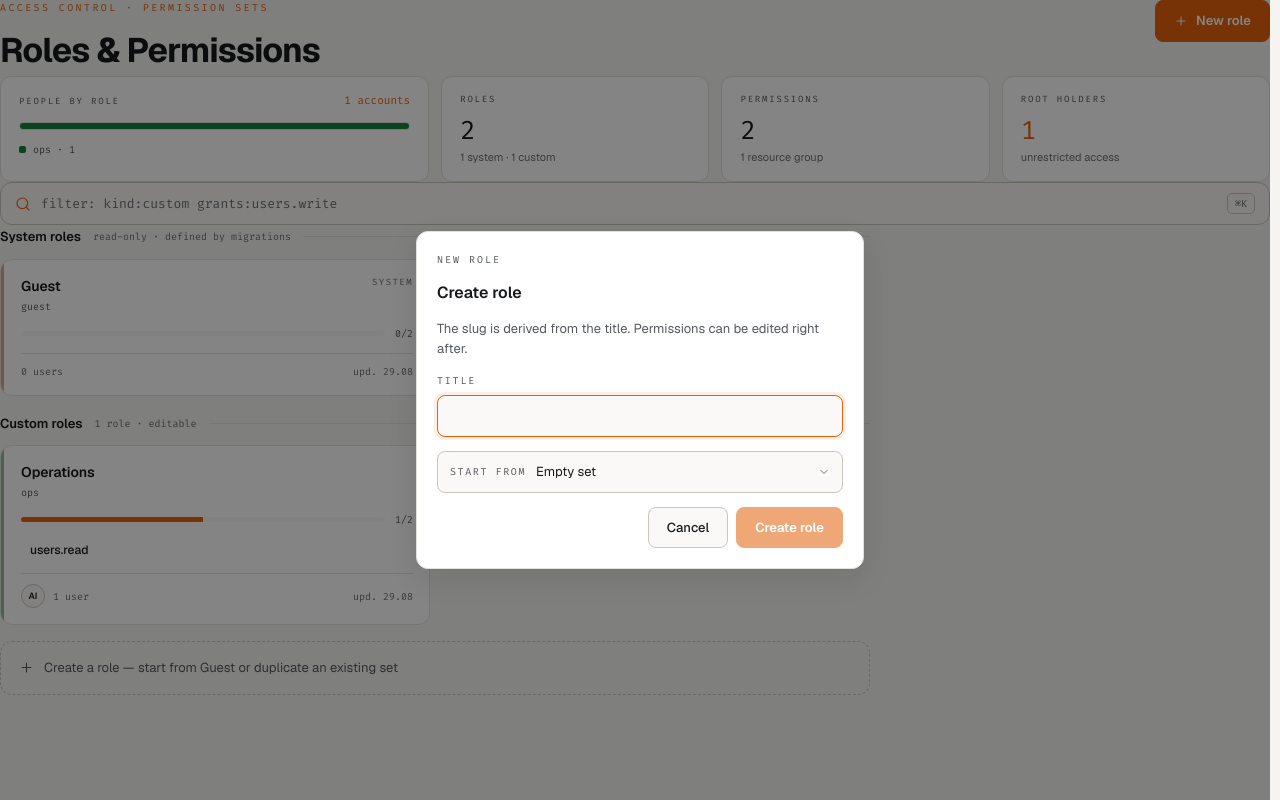
RolesScreen › offers every existing role as a starting point
Click the button "Start from Empty set": [488, 472] box [437,451,843,493]
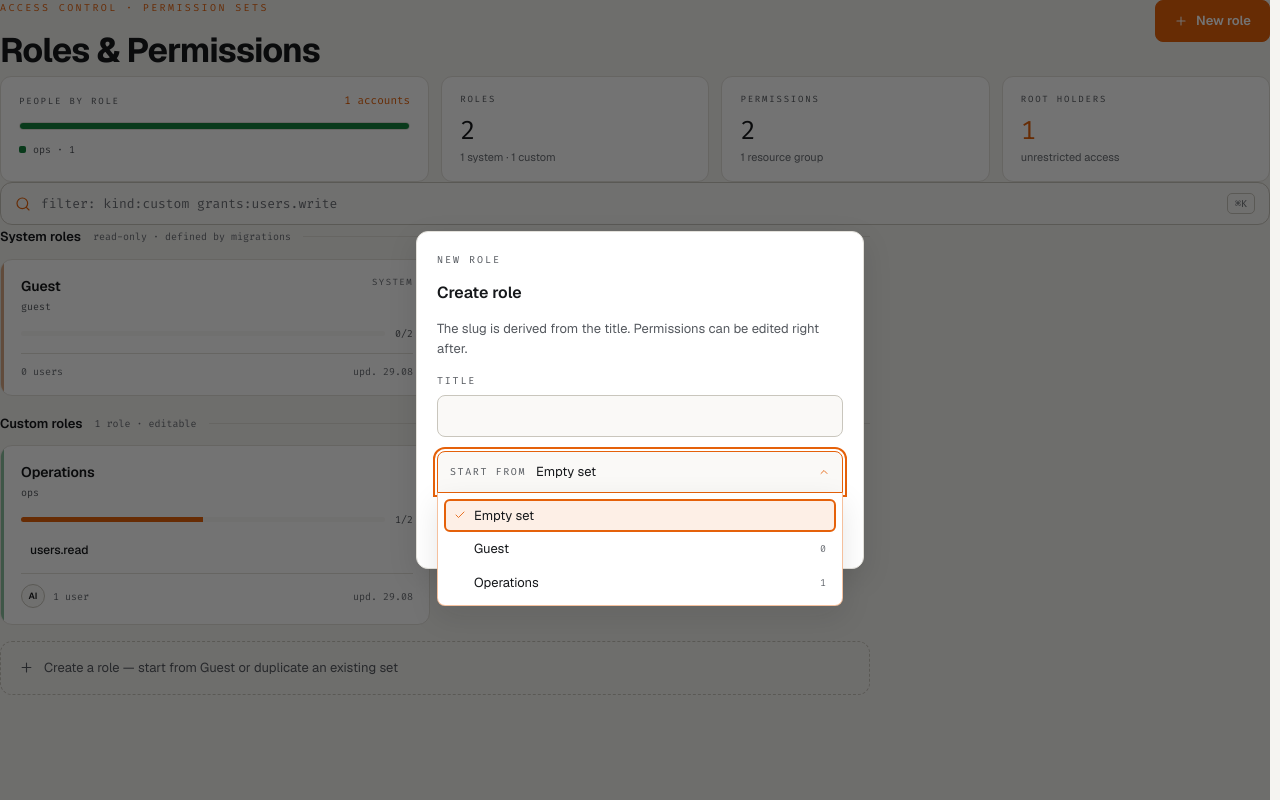
Expected: the number of options is 3, [444,499,836,532]; [474,540,826,557]; [474,574,826,591]
Expected: the option "Empty set" is shown, [444,499,836,532]
Expected: the option "Guest 0" is shown, [474,540,826,557]
